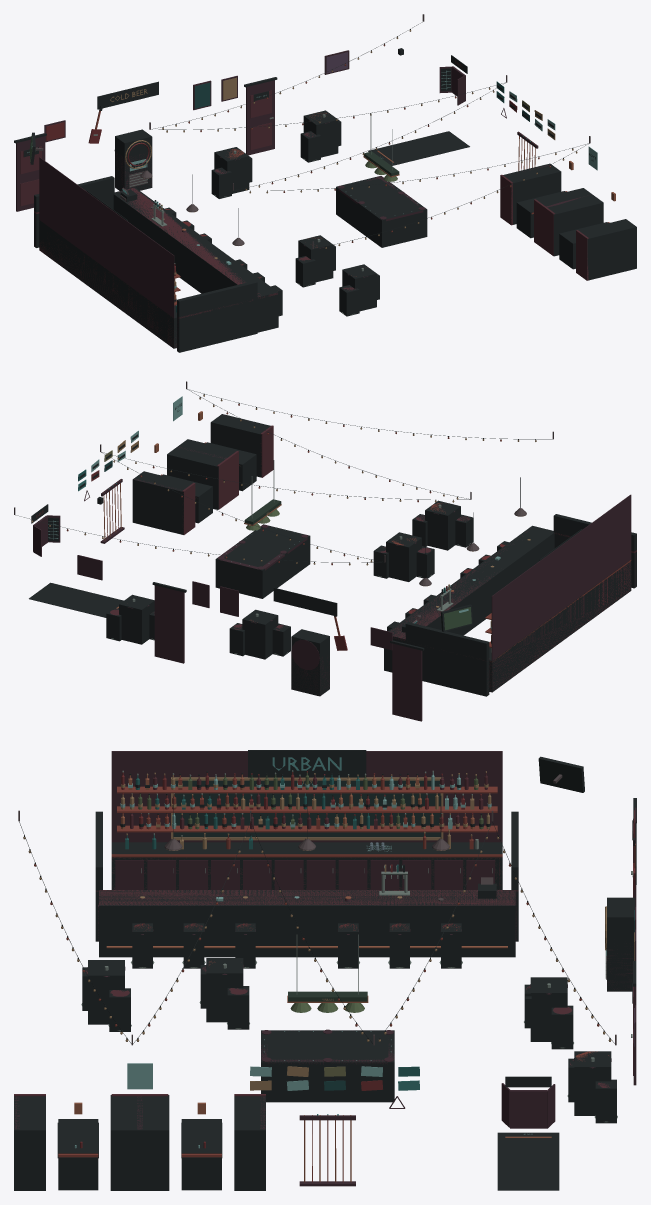
File: decor_bar.glb
3 renders of one model, top to bottom at view 1: azimuth 30°, elevation 25°; view 2: azimuth 150°, elevation 25°; view 3: azimuth 270°, elevation 25°, orthographic. The views are drawn at different scales.
Parts seen in each view (by area): view 1: Coliziune, Decor, Lumini; view 2: Coliziune, Decor, Lumini; view 3: Coliziune, Decor, Geamuri, Lumini.
Part boxes in pixels (bbox=[...]): Coliziune: bbox=[34, 110, 636, 352]; Decor: bbox=[14, 14, 615, 350]; Lumini: bbox=[29, 30, 577, 248]; Coliziune: bbox=[106, 414, 636, 696]; Decor: bbox=[14, 381, 636, 721]; Lumini: bbox=[31, 395, 536, 630]; Coliziune: bbox=[14, 811, 635, 1190]; Decor: bbox=[14, 750, 636, 1190]; Geamuri: bbox=[173, 780, 440, 837]; Lumini: bbox=[23, 757, 611, 1041].
Bounding box in the file's own units: 14.05 × 3.25 × 12.11.
